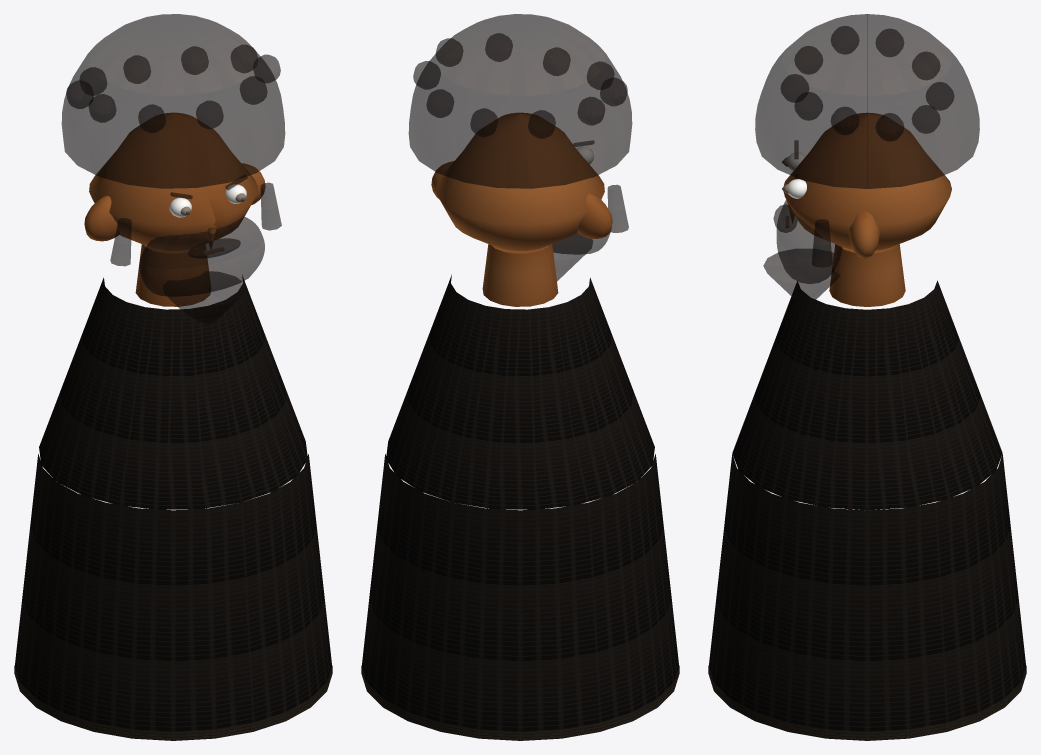
File: barabbas.glb
3 renders of one model, left to right at view 1: azimuth 30°, elevation 25°; view 2: azimuth 150°, elevation 25°; view 3: azimuth 270°, elevation 25°, orthographic.
Visible parts, largest first — view 1: Character_barabbas_the_insurgent, head; view 2: Character_barabbas_the_insurgent, head; view 3: Character_barabbas_the_insurgent, head.
Boxes of the visible parts, bbox=[...] form: Character_barabbas_the_insurgent: bbox=[14, 14, 332, 740]; head: bbox=[89, 113, 257, 250]; Character_barabbas_the_insurgent: bbox=[361, 14, 679, 740]; head: bbox=[436, 113, 604, 250]; Character_barabbas_the_insurgent: bbox=[708, 14, 1026, 740]; head: bbox=[783, 113, 951, 250].
Size of the model in its own units: 0.7991 by 1.8 by 0.7991.
Materials: 8 (4 with a texture image).
